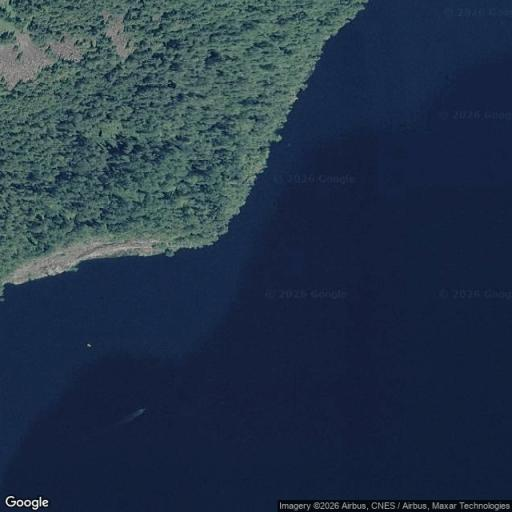ship: (123, 407, 147, 424)
